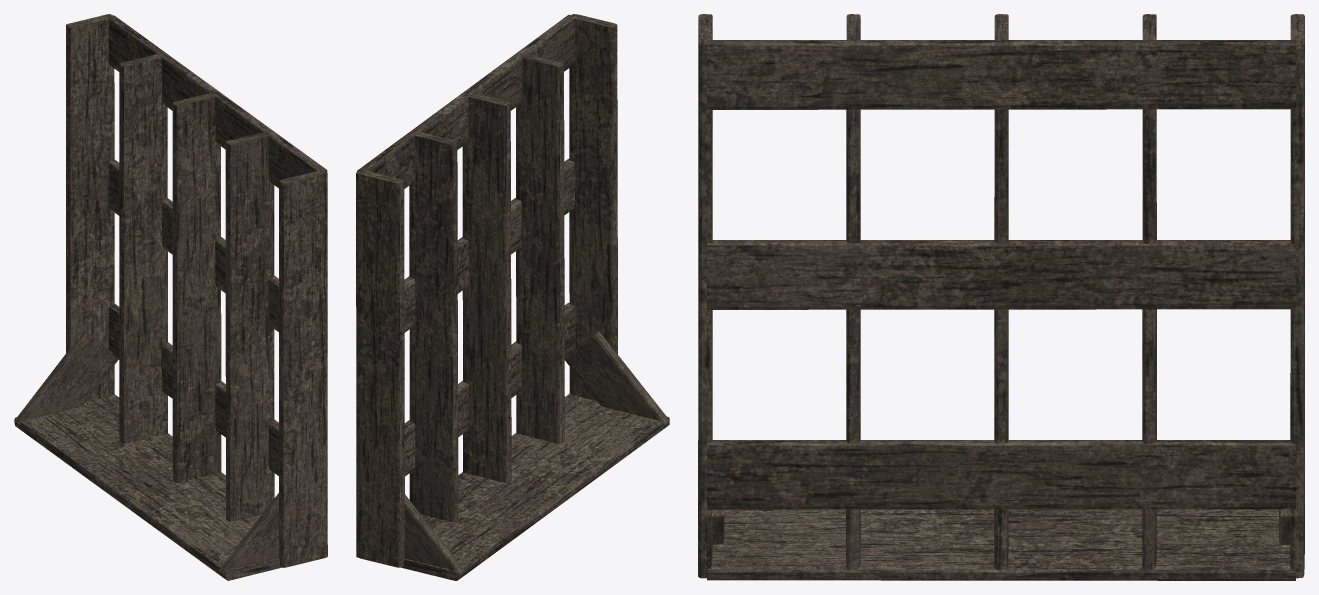
File: gunRack.fbx
The picture shows the model from 3 angles, left to right: view 1: azimuth 30°, elevation 25°; view 2: azimuth 150°, elevation 25°; view 3: azimuth 270°, elevation 25°; orthographic projection. The views are drawn at different scales.
Visible parts, largest first — view 1: Cube.001, Cube.002, Cube, Cube.003; view 2: Cube.001, Cube.002, Cube, Cube.003; view 3: Cube, Cube.002, Cube.001, Cube.003.
Boxes of the visible parts, x1,y1,x2,y2 form: Cube.001: (66, 14, 327, 567); Cube.002: (14, 394, 281, 580); Cube: (107, 15, 327, 475); Cube.003: (14, 331, 278, 574); Cube.001: (356, 14, 617, 567); Cube.002: (401, 394, 669, 580); Cube: (357, 14, 575, 476); Cube.003: (404, 331, 669, 574); Cube: (707, 40, 1296, 509); Cube.002: (707, 509, 1295, 580); Cube.001: (698, 14, 1304, 578); Cube.003: (711, 509, 1292, 544).
Bounding box in the file's own units: 459 × 1643 × 1678.
